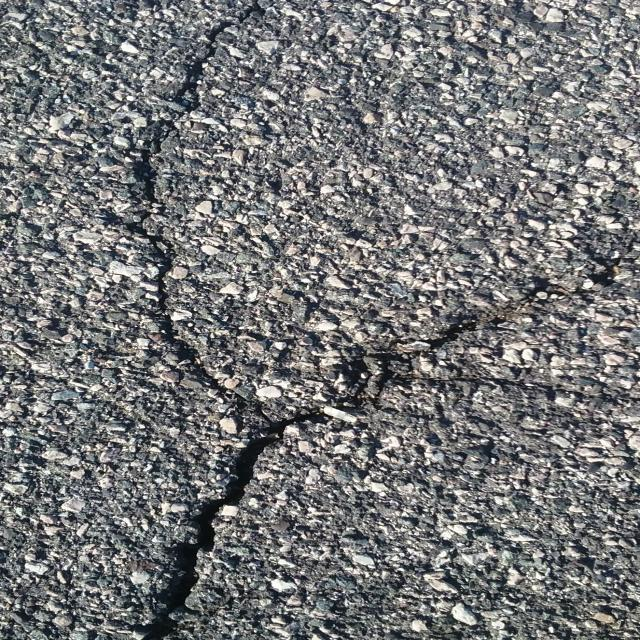Crack: (109, 0, 640, 640)
